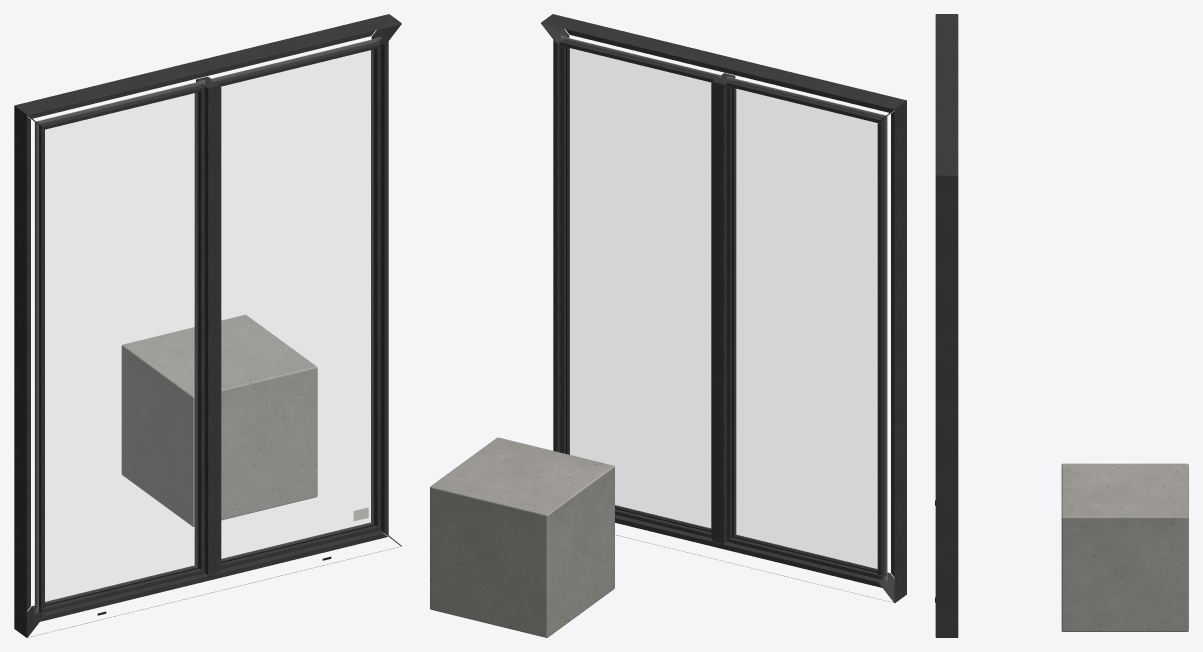
Rendered from kinh.glb.
3 views of the same model, side by side, from view 1: azimuth 30°, elevation 25°; view 2: azimuth 150°, elevation 25°; view 3: azimuth 270°, elevation 25° (orthographic). The views are drawn at different scales.
Parts seen in each view (by area): view 1: Glass_1, Glass_2, ConcreteBlock, Frame_left, Bead_1_out, Mullion, Frame_top, Bead_2_out, Bead_1_in, Frame_right, Frame_bottom, Bead_2_in (+4 smaller); view 2: Glass_1, Glass_2, ConcreteBlock, Bead_1_in, Frame_left, Mullion, Frame_top, Bead_2_in, Bead_1_out, Frame_right, Frame_bottom, Bead_2_out (+4 smaller); view 3: ConcreteBlock, Frame_right, Frame_top.
Part boxes in pixels (box(x1,y1,x2,y2)): Glass_1: box(34, 80, 204, 614); Glass_2: box(211, 37, 380, 560); ConcreteBlock: box(121, 314, 317, 526); Frame_left: box(14, 106, 44, 637); Bead_1_out: box(39, 85, 204, 612); Mullion: box(196, 76, 219, 575); Frame_top: box(14, 14, 401, 128); Bead_2_out: box(215, 42, 380, 569); Bead_1_in: box(35, 82, 200, 609); Frame_right: box(371, 24, 401, 545); Frame_bottom: box(27, 530, 401, 637); Bead_2_in: box(211, 39, 376, 561); Glass_1: box(726, 77, 887, 580); Glass_2: box(560, 36, 721, 530); ConcreteBlock: box(430, 437, 614, 637); Bead_1_in: box(726, 81, 883, 579); Frame_left: box(878, 100, 906, 602); Mullion: box(712, 73, 735, 543); Frame_top: box(541, 14, 906, 122); Bead_2_in: box(560, 40, 716, 538); Bead_1_out: box(730, 78, 887, 576); Frame_right: box(541, 23, 569, 452); Frame_bottom: box(615, 514, 894, 602); Bead_2_out: box(564, 37, 720, 530); ConcreteBlock: box(1061, 463, 1188, 631); Frame_right: box(935, 175, 958, 637); Frame_top: box(935, 14, 958, 175).
Bounding box in the file's own units: 1.5 × 2 × 0.995.
5 materials, 5 textured.
